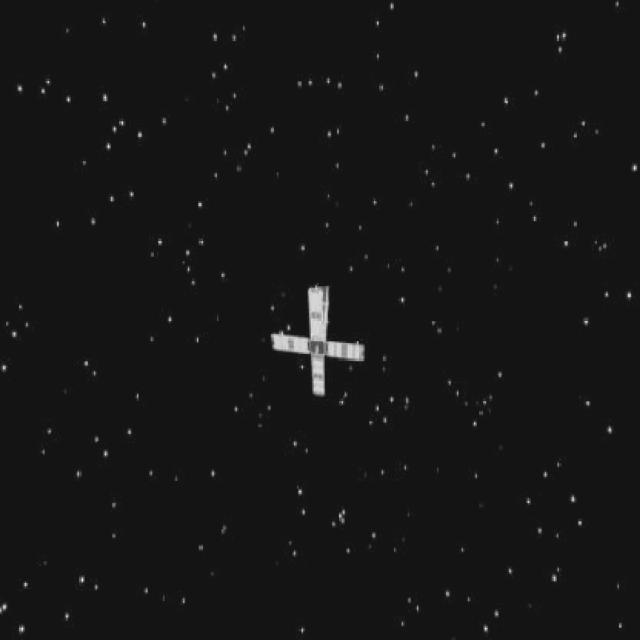satellite: (259, 283, 373, 402)
